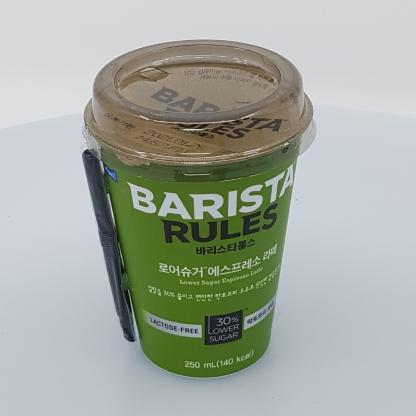-------------------: (79, 40, 316, 380)
